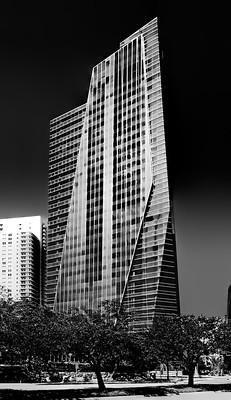building: (42, 14, 184, 379)
